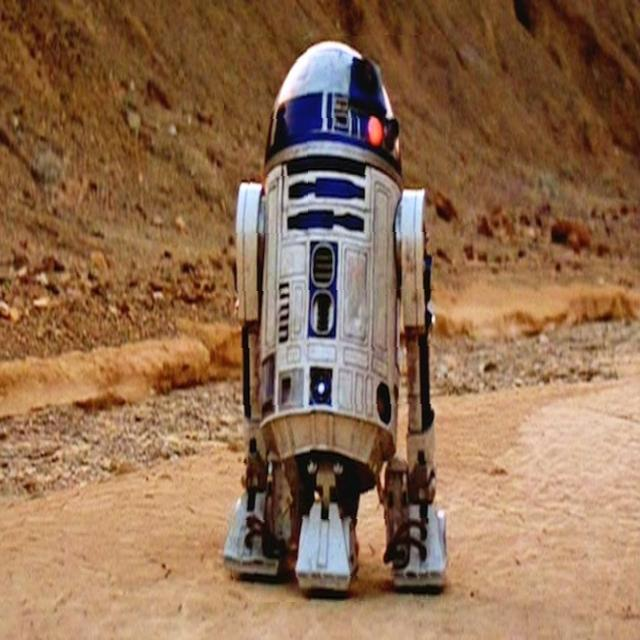r2-d2: (226, 35, 449, 602)
